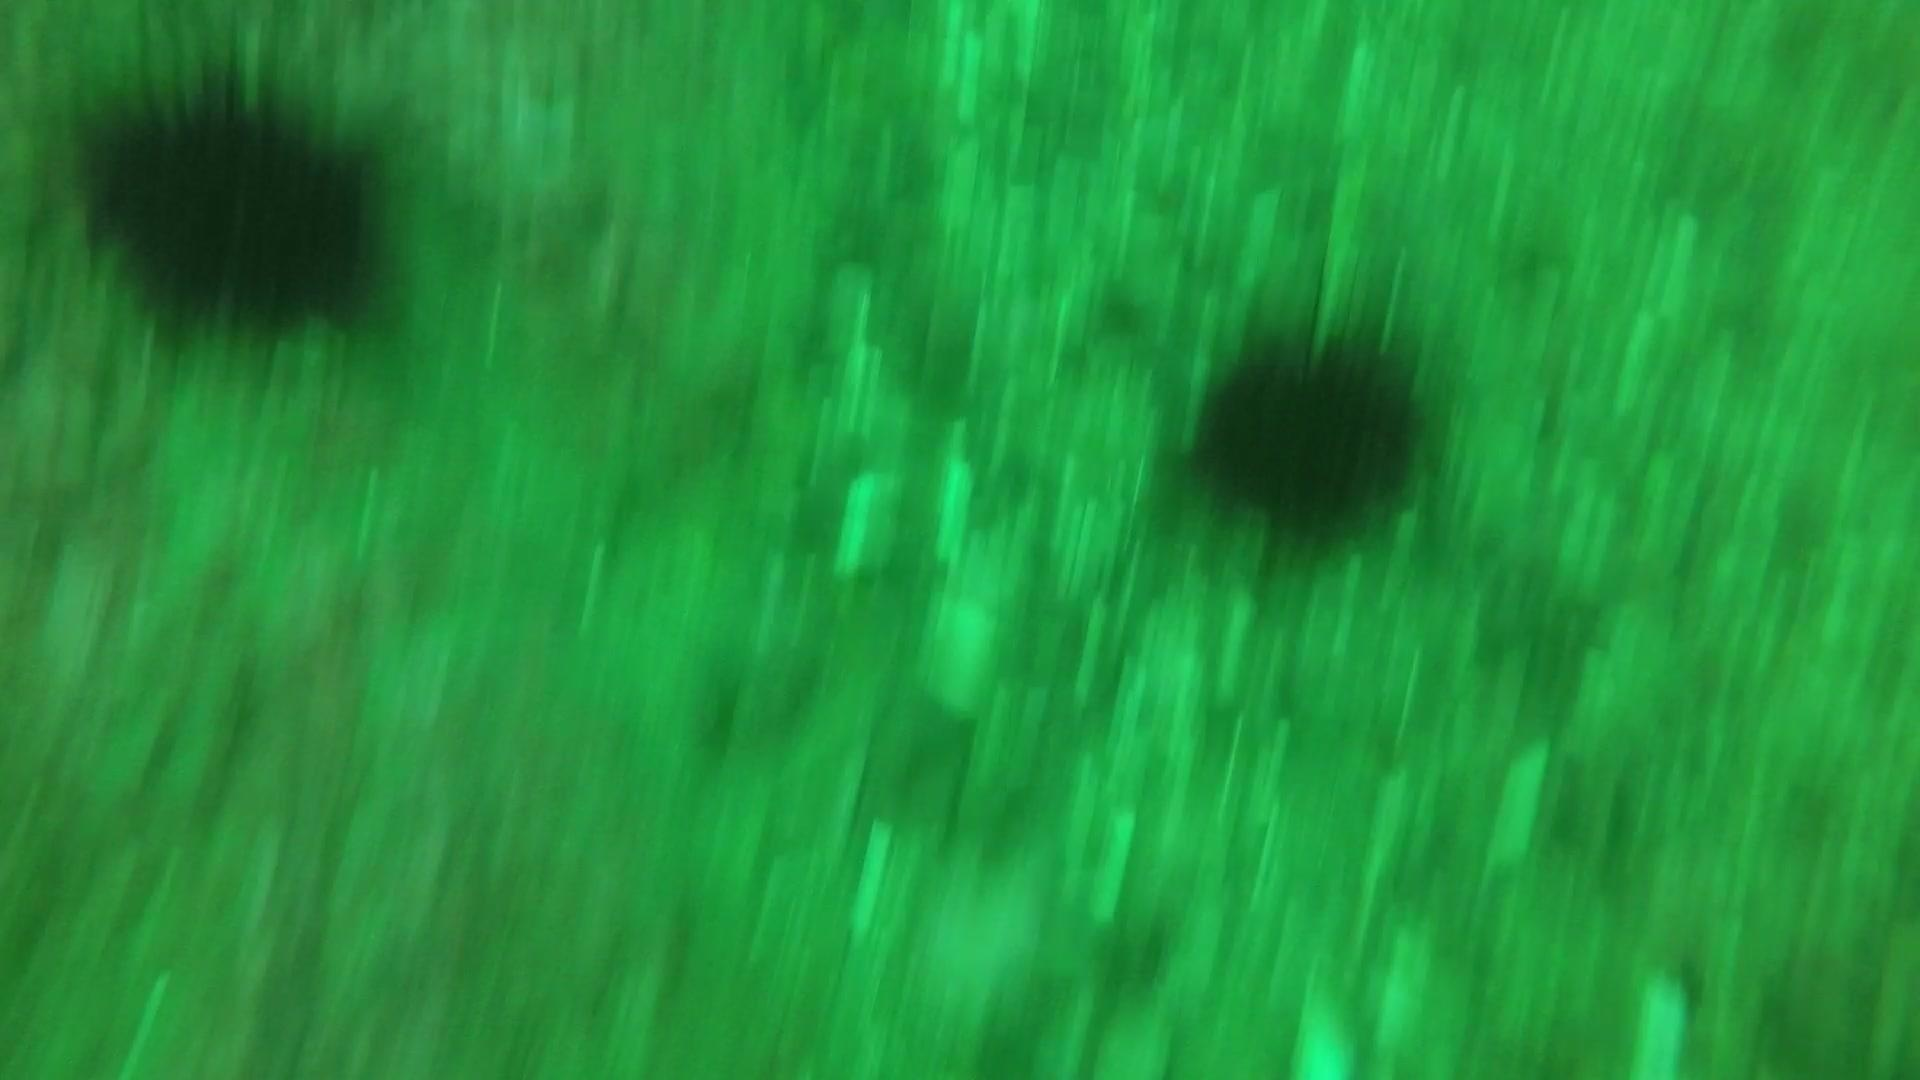echinus: (67, 61, 407, 345), (1178, 309, 1437, 550)
